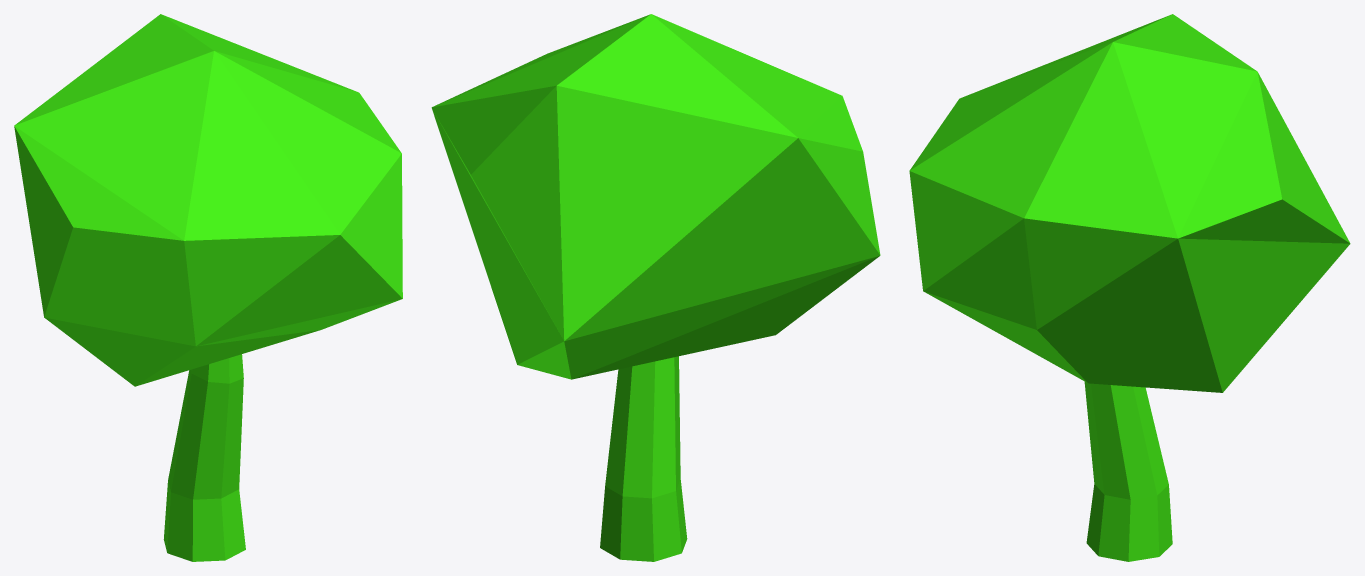
File: Tree03.fbx
3 renders of one model, left to right at view 1: azimuth 30°, elevation 25°; view 2: azimuth 150°, elevation 25°; view 3: azimuth 270°, elevation 25°, orthographic. The views are drawn at different scales.
Visible parts, largest first — view 1: Tree03; view 2: Tree03; view 3: Tree03.
Boxes of the visible parts, x1=… form: Tree03: x1=14, y1=14, x2=402, y2=561; Tree03: x1=431, y1=14, x2=880, y2=561; Tree03: x1=909, y1=14, x2=1350, y2=561.
Bounding box in the file's own units: 607 × 779 × 620.
